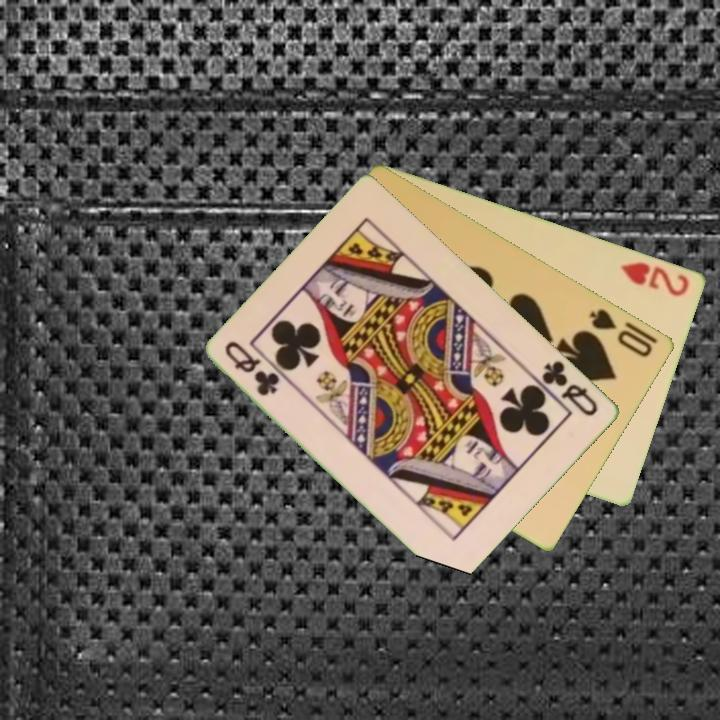10s: (586, 305, 656, 360)
2h: (618, 258, 693, 299)
Qc: (530, 357, 602, 420), (222, 337, 283, 399)
